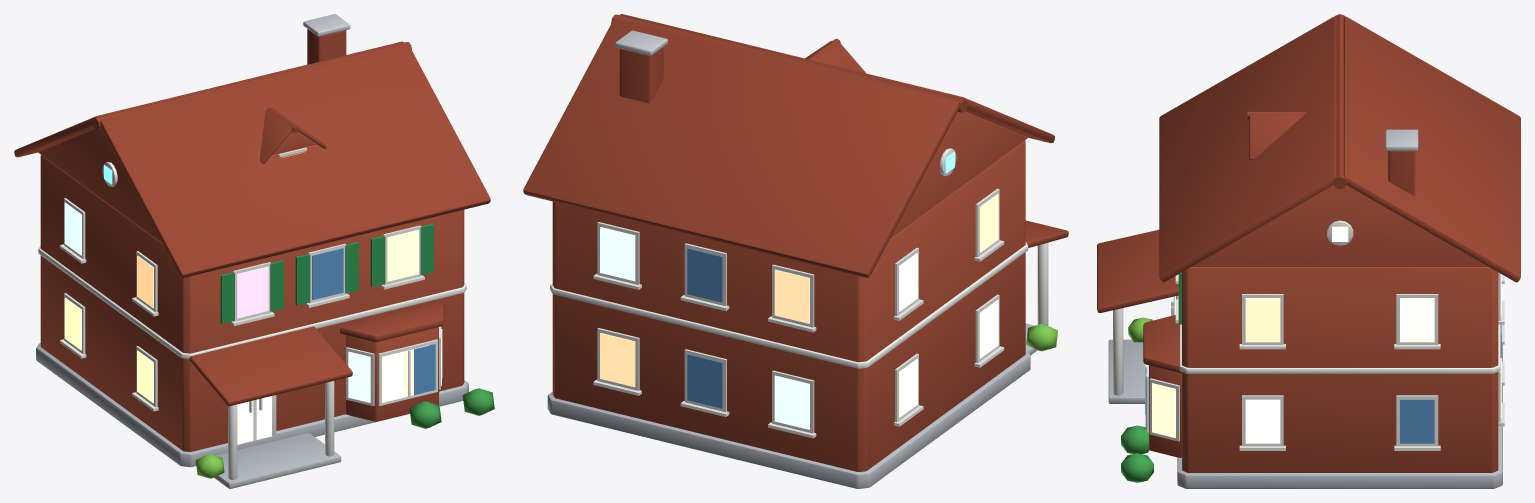
The model's file is sobrado_tijolo.glb.
The picture shows the model from 3 angles, left to right: view 1: azimuth 30°, elevation 25°; view 2: azimuth 150°, elevation 25°; view 3: azimuth 270°, elevation 25°; orthographic projection. The views are drawn at different scales.
Parts seen in each view (by area): view 1: sobrado_tijolo; view 2: sobrado_tijolo; view 3: sobrado_tijolo.
Boxes of the visible parts, x1,y1,x2,y2 form: sobrado_tijolo: (14,14,494,488); sobrado_tijolo: (523,14,1068,488); sobrado_tijolo: (1097,14,1520,488).
Size of the model in its own units: 10 by 9.45 by 10.98.
7 materials, 1 textured.
